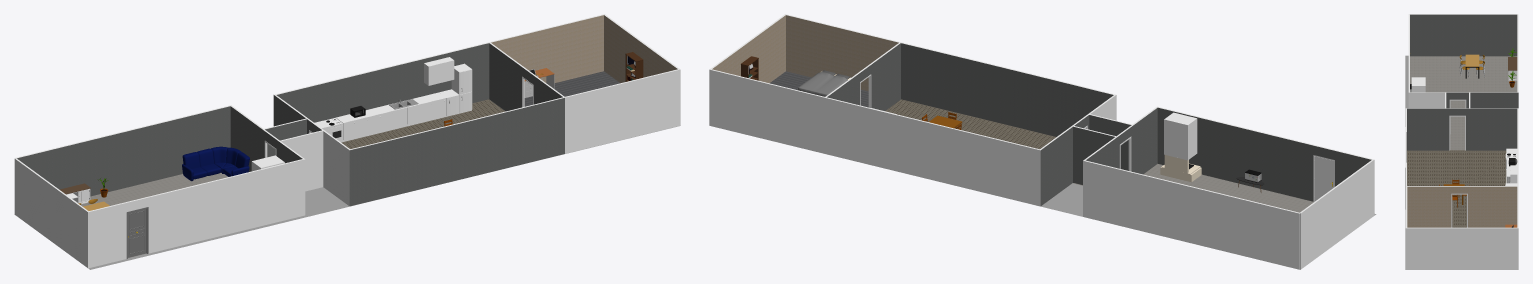
File: casa.obj
3 renders of one model, left to right at view 1: azimuth 30°, elevation 25°; view 2: azimuth 150°, elevation 25°; view 3: azimuth 270°, elevation 25°, orthographic. The views are drawn at different scales.
Visible parts, largest first — view 1: wall_8_47, wall_2_11, wall_3_16, wall_13_76, wall_10_58, wall_11_65, wall_1_5, wall_9_52, wall_12_71, room_24_129, ground_1, room_23_128 (+8 smaller); view 2: wall_3_17, wall_10_59, wall_8_46, wall_2_10, wall_11_64, wall_13_77, wall_1_5, room_24_129, wall_9_52, wall_12_71, room_23_128, wall_18_101 (+10 smaller); view 3: wall_12_70, wall_1_4, wall_9_53, room_24_129, room_23_128, wall_18_100, wall_22_124, wall_17_95, wall_19_107, wall_5_28, ground_1, room_25_130 (+21 smaller).
Boxes of the visible parts, x1,y1,x2,y2 form: wall_8_47: (349,98,564,206); wall_2_11: (88,159,305,268); wall_3_16: (17,106,230,196); wall_13_76: (565,69,680,153); wall_10_58: (276,43,489,122); wall_11_65: (491,15,603,82); wall_1_5: (14,159,87,267); wall_9_52: (489,43,562,111); wall_12_71: (604,15,677,83); room_24_129: (341,99,505,148); ground_1: (14,125,680,269); room_23_128: (81,173,227,257); wall_3_17: (1083,161,1299,269); wall_10_59: (824,97,1040,206); wall_8_46: (901,43,1113,136); wall_2_10: (1157,107,1371,201); wall_11_64: (709,69,824,153); wall_13_77: (786,15,898,91); wall_1_5: (1300,160,1374,269); room_24_129: (885,99,1056,149); wall_9_52: (827,43,900,110); wall_12_71: (712,15,785,83); room_23_128: (1143,164,1313,212); wall_18_101: (1040,127,1072,205); wall_12_70: (1405,228,1518,269); wall_1_4: (1410,14,1517,56); wall_9_53: (1407,186,1517,227); room_24_129: (1407,150,1506,227); room_23_128: (1410,56,1517,134); wall_18_100: (1469,108,1517,150); wall_22_124: (1407,108,1445,150); wall_17_95: (1470,92,1518,108); wall_19_107: (1408,92,1444,108); wall_5_28: (1445,108,1470,150); ground_1: (1405,55,1408,269); room_25_130: (1450,134,1464,150).
Bounding box in the file's own units: 2752 × 250 × 615.
